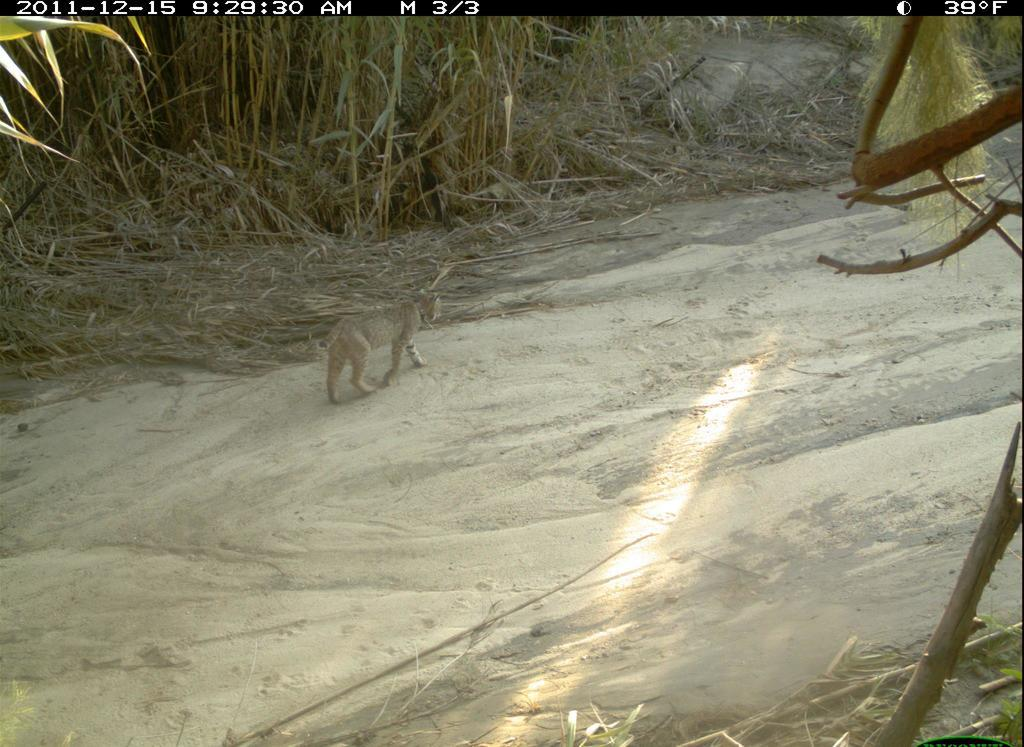bobcat: (308, 283, 451, 410)
